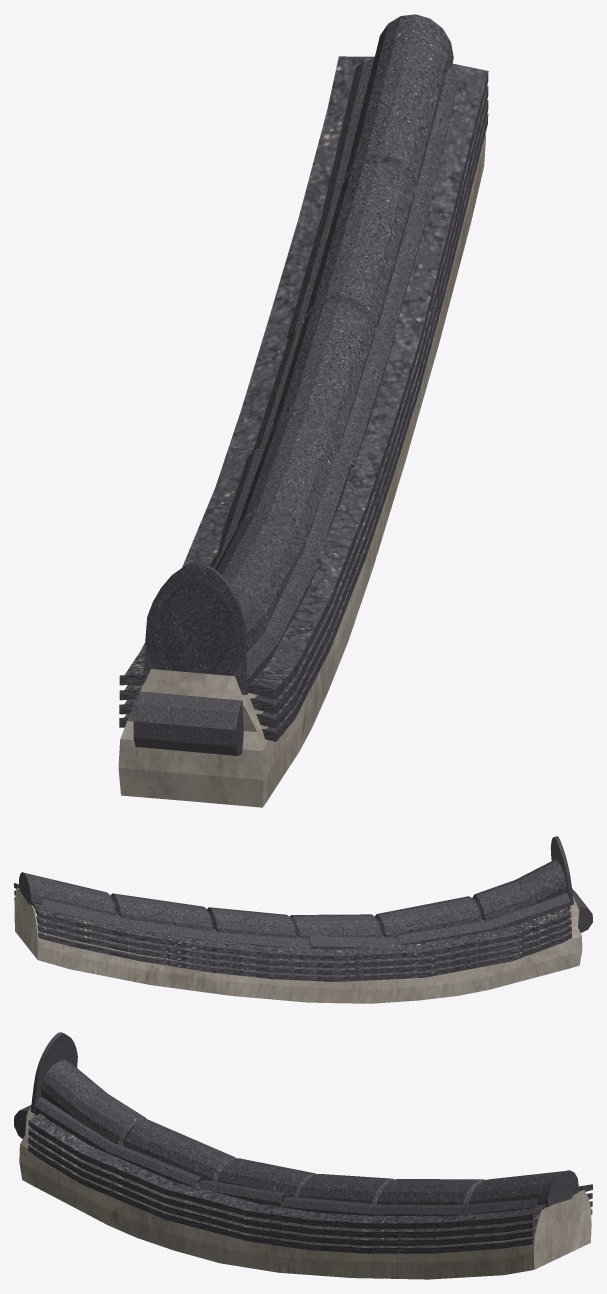
Rendered from SM_R_BeamRoof_14.fbx.
3 views of the same model, one above another, from view 1: azimuth 30°, elevation 25°; view 2: azimuth 150°, elevation 25°; view 3: azimuth 270°, elevation 25° (orthographic). The views are drawn at different scales.
Visible parts, largest first — view 1: SM_R_BeamRoof_14; view 2: SM_R_BeamRoof_14; view 3: SM_R_BeamRoof_14.
Part boxes in pixels (bbox=[...]): SM_R_BeamRoof_14: bbox=[118, 14, 488, 807]; SM_R_BeamRoof_14: bbox=[14, 836, 592, 1003]; SM_R_BeamRoof_14: bbox=[14, 1032, 592, 1279].
Size of the model in its own units: 207 by 231 by 88.45.
2 materials, 2 textured.
